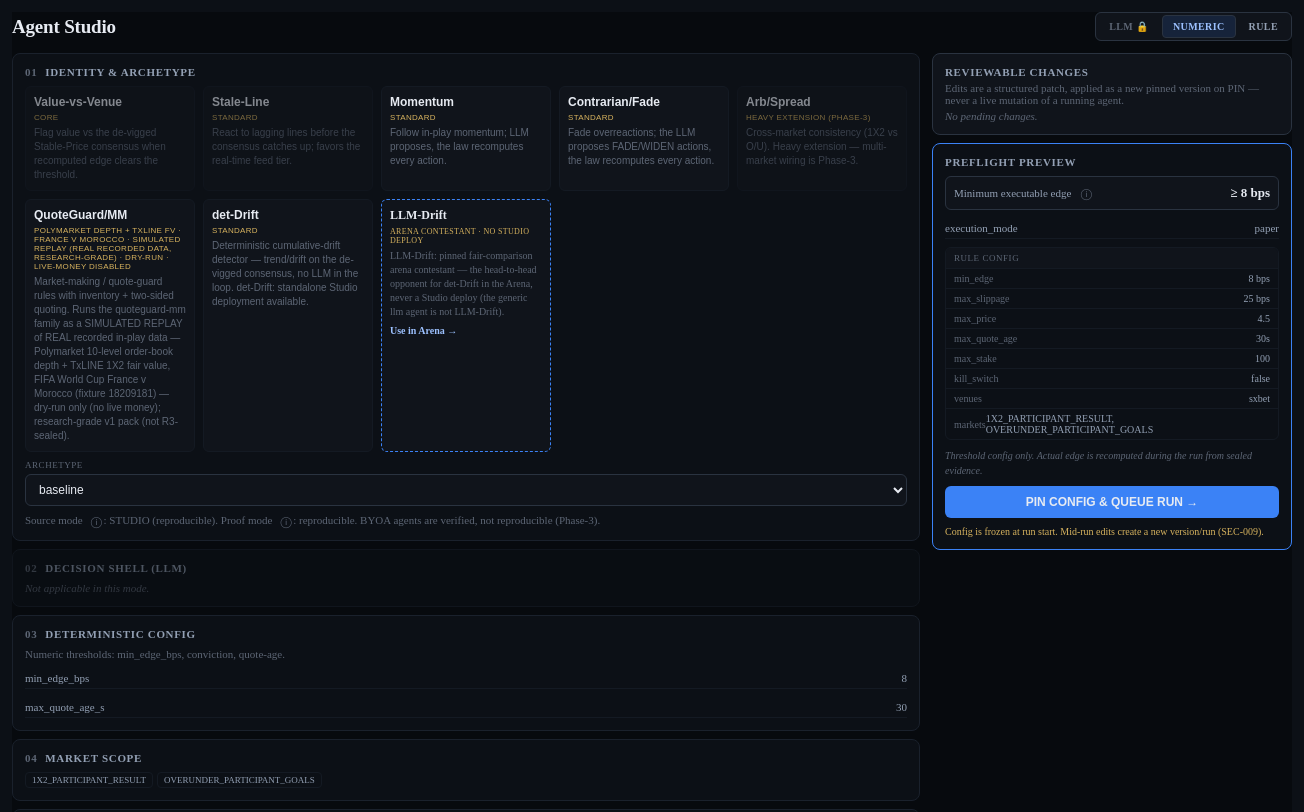
Test case: F-2 · Studio deploy navigation (await-before-navigate, authenticated path) › stays on Studio and never navigates on a fail-closed preflight (422)
The image size is (1304, 812).
Click the button "PIN CONFIG & QUEUE RUN →": (1112, 502) [945,486,1279,518]
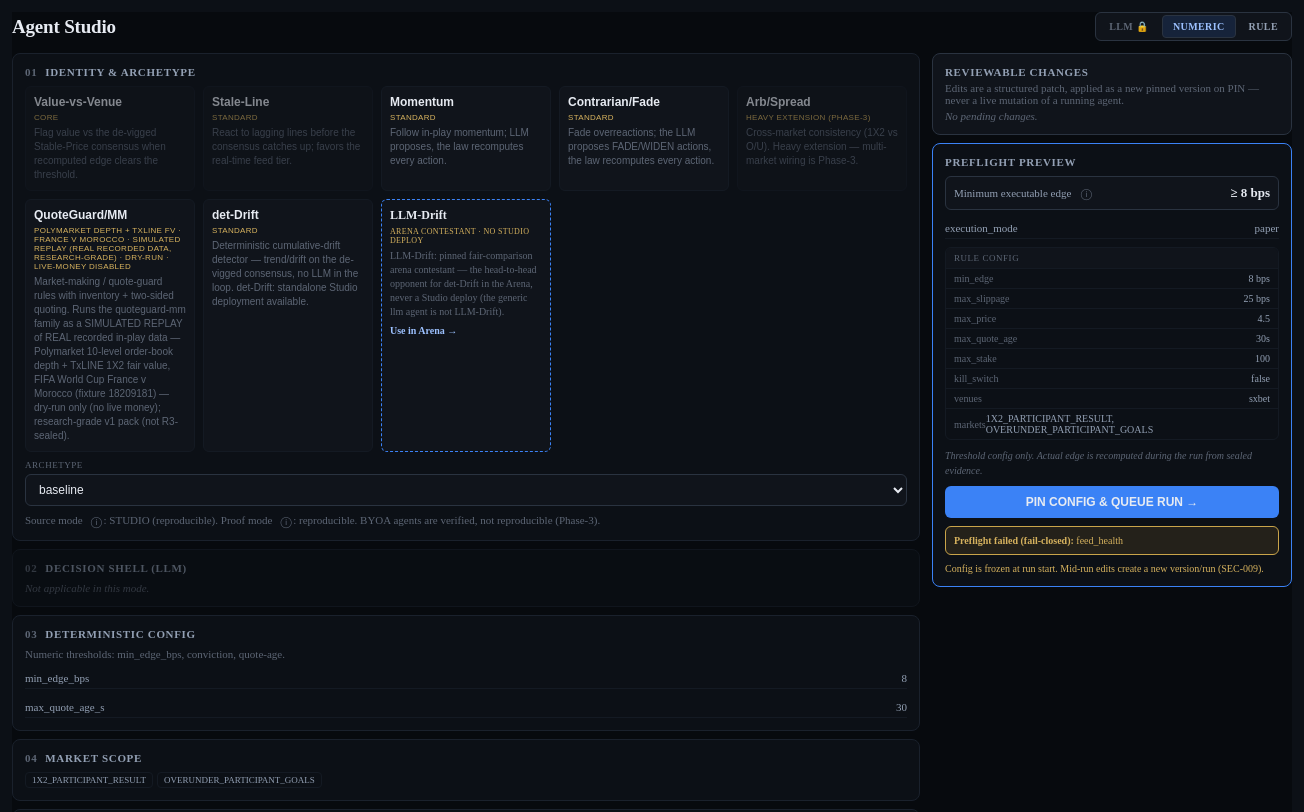
Check: the message with test id "deploy-preflight-error" shows "feed_health", box [1076,535,1123,546]
